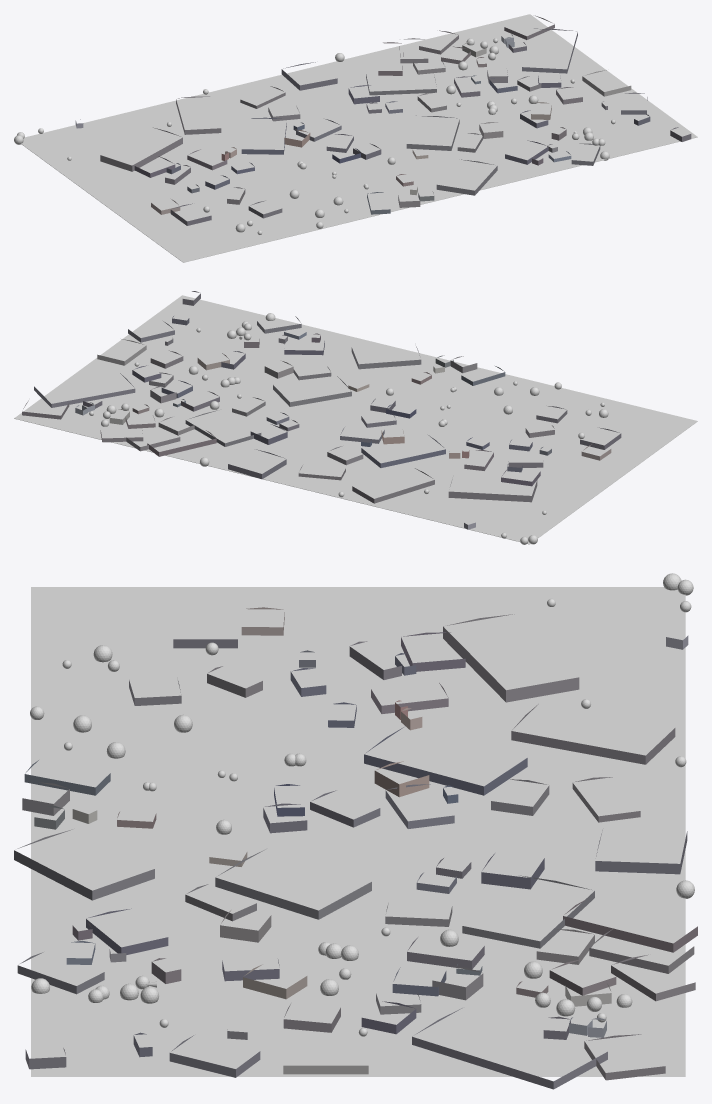
The picture shows the model from 3 angles, top to bottom: view 1: azimuth 30°, elevation 25°; view 2: azimuth 150°, elevation 25°; view 3: azimuth 270°, elevation 25°; orthographic projection. The views are drawn at different scales.
Visible parts, largest first — view 1: Ground_Base, BLD-001, BLD-002; view 2: Ground_Base, BLD-001, BLD-003, BLD-008, BLD-006, BLD-004, BLD-002; view 3: Ground_Base, BLD-001, BLD-003, BLD-006, BLD-008, BLD-004, BLD-002, BLD-011, BLD-007, BLD-005, BLD-010, BLD-013 (+8 smaller).
Part boxes in pixels (x1,y1,x2,y2): Ground_Base: [21, 14, 697, 262]; BLD-001: [100, 127, 182, 171]; BLD-002: [436, 159, 497, 195]; Ground_Base: [14, 295, 697, 544]; BLD-001: [448, 479, 537, 502]; BLD-003: [34, 373, 135, 407]; BLD-008: [361, 435, 445, 467]; BLD-006: [352, 468, 434, 503]; BLD-004: [273, 376, 351, 406]; BLD-002: [351, 346, 421, 369]; Ground_Base: [31, 587, 685, 1076]; BLD-001: [443, 614, 579, 702]; BLD-003: [412, 1008, 607, 1089]; BLD-006: [511, 704, 675, 764]; BLD-008: [364, 726, 527, 795]; BLD-004: [215, 849, 371, 919]; BLD-002: [14, 829, 154, 900]; BLD-011: [563, 900, 697, 952]; BLD-007: [462, 875, 594, 948]; BLD-005: [595, 830, 687, 874]; BLD-010: [589, 929, 694, 973]; BLD-013: [169, 1035, 260, 1077].
Size of the model in its own units: 760 by 14.85 by 434.
